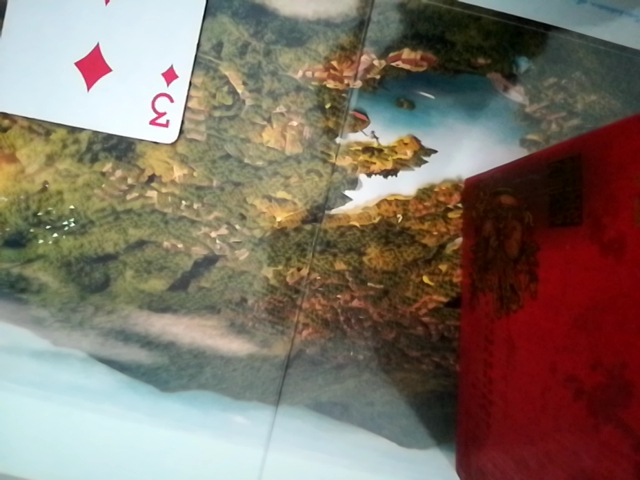fk 3: (0, 0, 238, 148)
